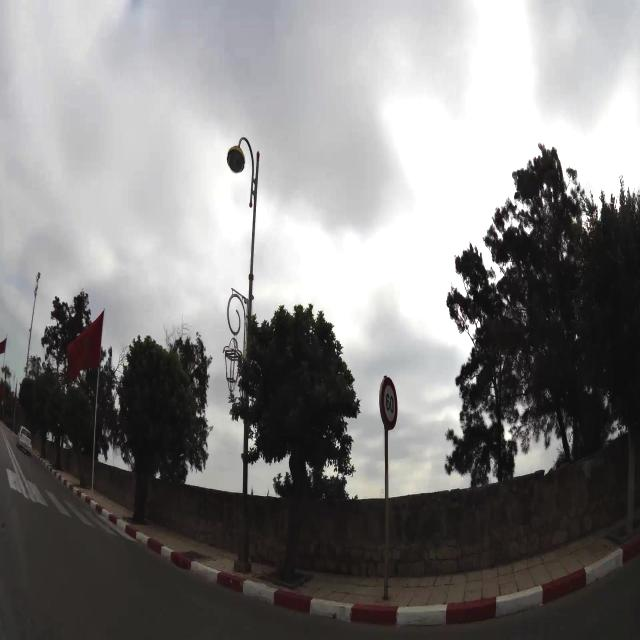car: (17, 427, 32, 452)
